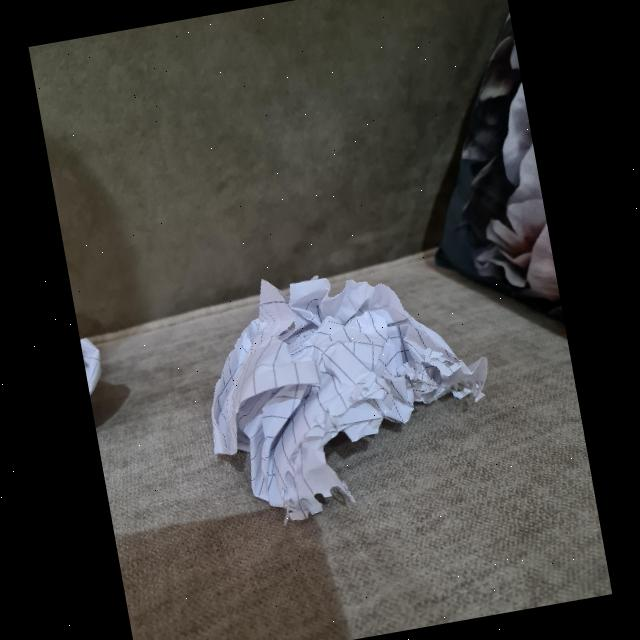trash: (186, 250, 498, 522)
